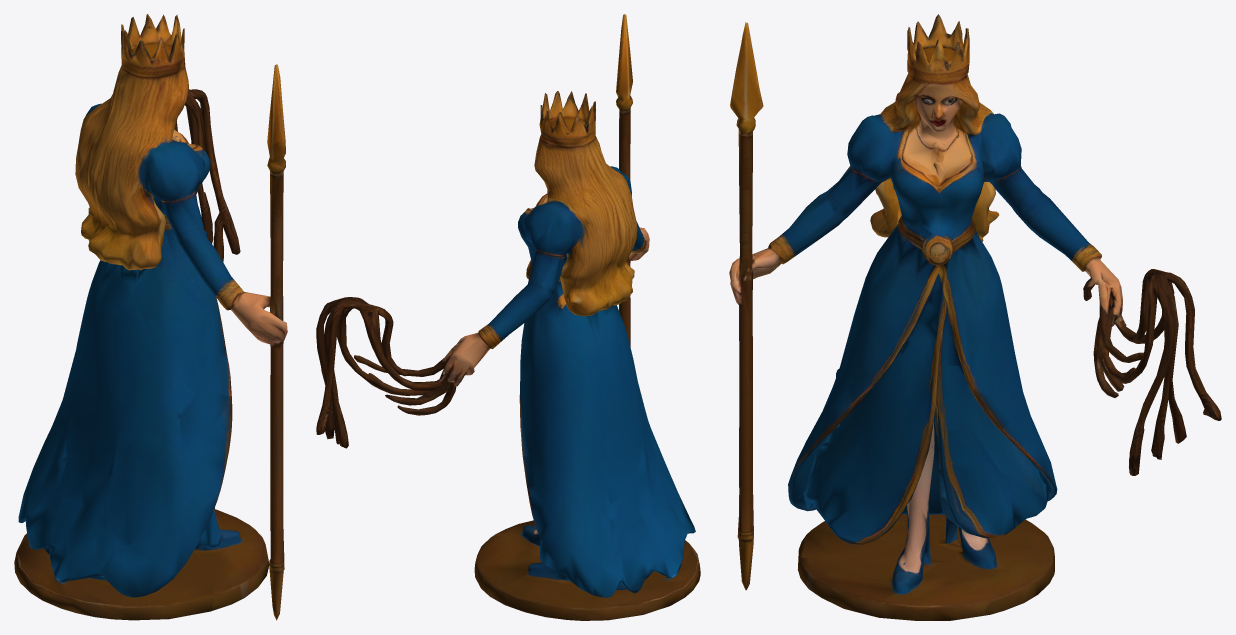
The picture shows the model from 3 angles, left to right: view 1: azimuth 30°, elevation 25°; view 2: azimuth 150°, elevation 25°; view 3: azimuth 270°, elevation 25°; orthographic projection. The views are drawn at different scales.
Parts seen in each view (by area): view 1: tripo_node_ad1ea286-cdd7-480d-aadd-eec7a1d447ec; view 2: tripo_node_ad1ea286-cdd7-480d-aadd-eec7a1d447ec; view 3: tripo_node_ad1ea286-cdd7-480d-aadd-eec7a1d447ec.
Boxes of the visible parts, box(x1,y1,x2,y2) form: tripo_node_ad1ea286-cdd7-480d-aadd-eec7a1d447ec: box(14, 14, 287, 620); tripo_node_ad1ea286-cdd7-480d-aadd-eec7a1d447ec: box(316, 14, 700, 620); tripo_node_ad1ea286-cdd7-480d-aadd-eec7a1d447ec: box(729, 14, 1221, 620).
Bounding box in the file's own units: 0.5816 × 0.9993 × 0.7846.
1 material, 1 textured.
